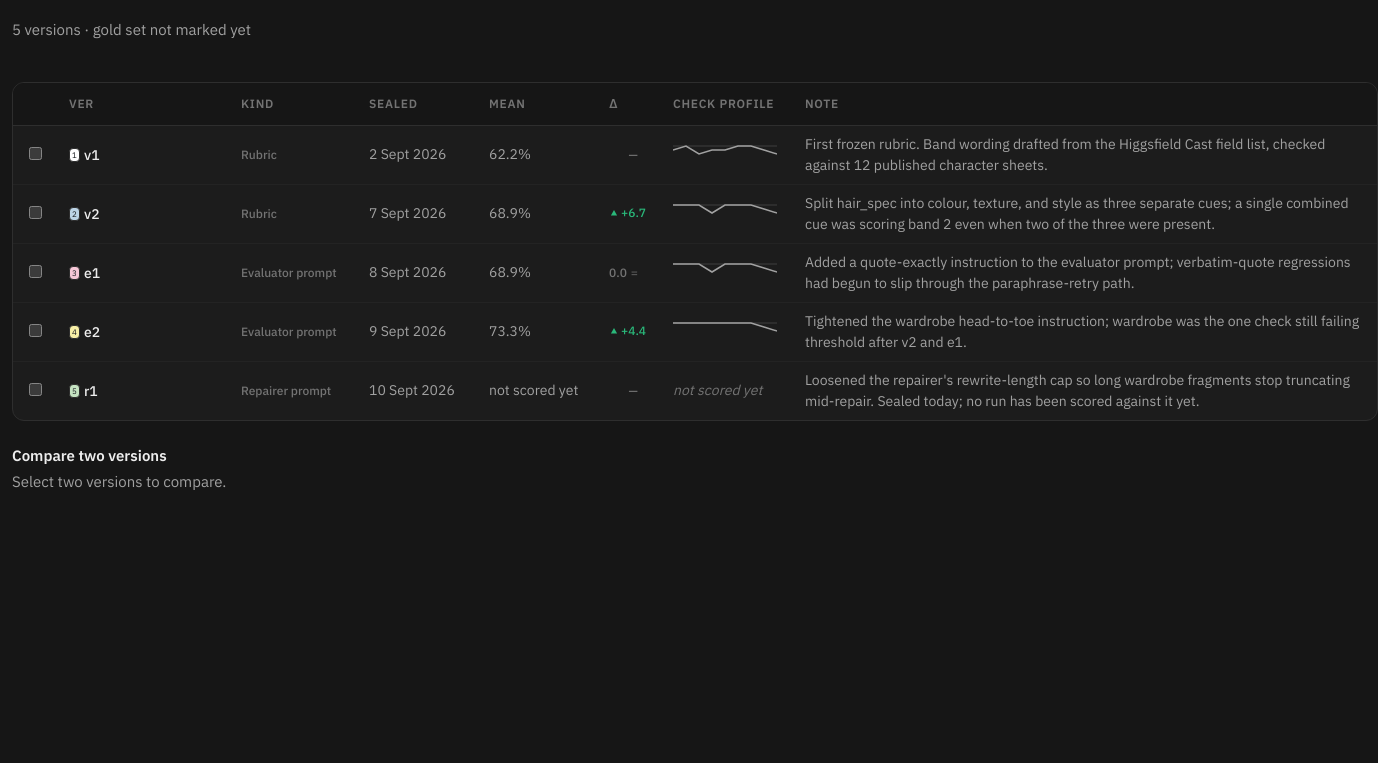
Test case: VersionsScreen › opens the compare view with a prompt diff and a per-check delta table when two versions are selected
The image size is (1378, 763).
Check: the text "First frozen rubric" is shown, box [805,134,1325,174]
Click the checkbox named "Select v1 to compare" at (36, 153), box [29,146,42,160]
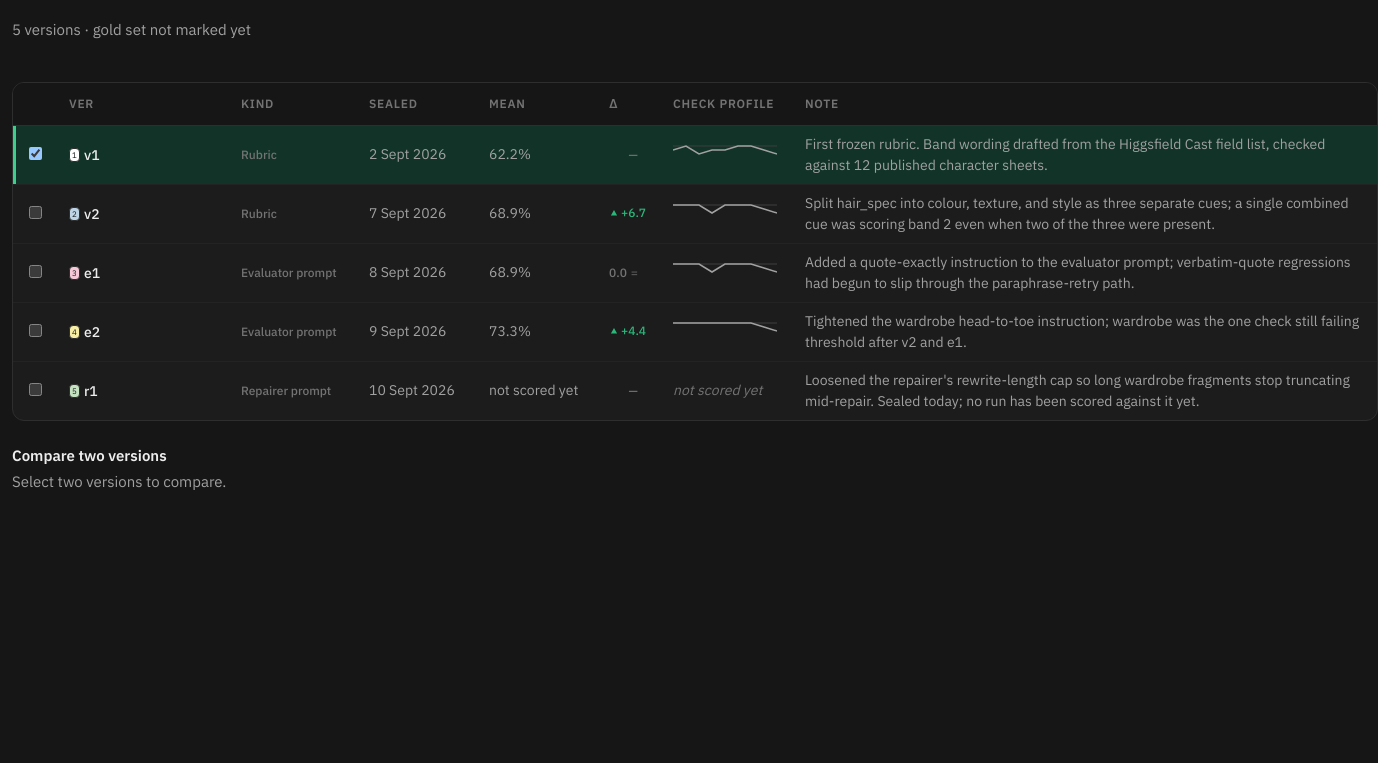
Click the checkbox named "Select v2 to compare" at (36, 212), box [29,206,42,218]
(page scrolled)
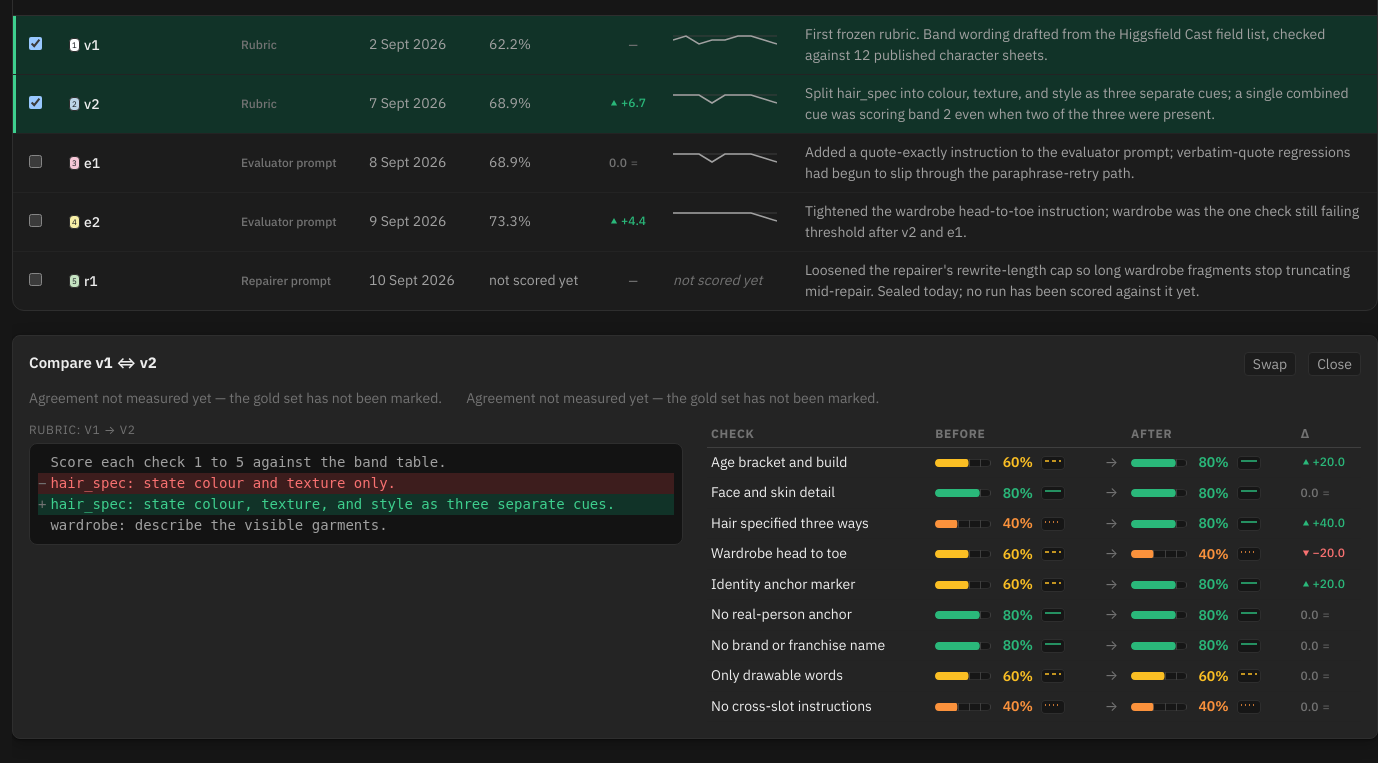
Check: the element named "comparing v1 and v2" is shown, box [12,334,1377,739]
Check: the text "state colour, texture, and style as three separate cues" is shown, box [50,496,615,512]
Check: the table named "per-check score change" is shown, box [707,420,1361,722]
